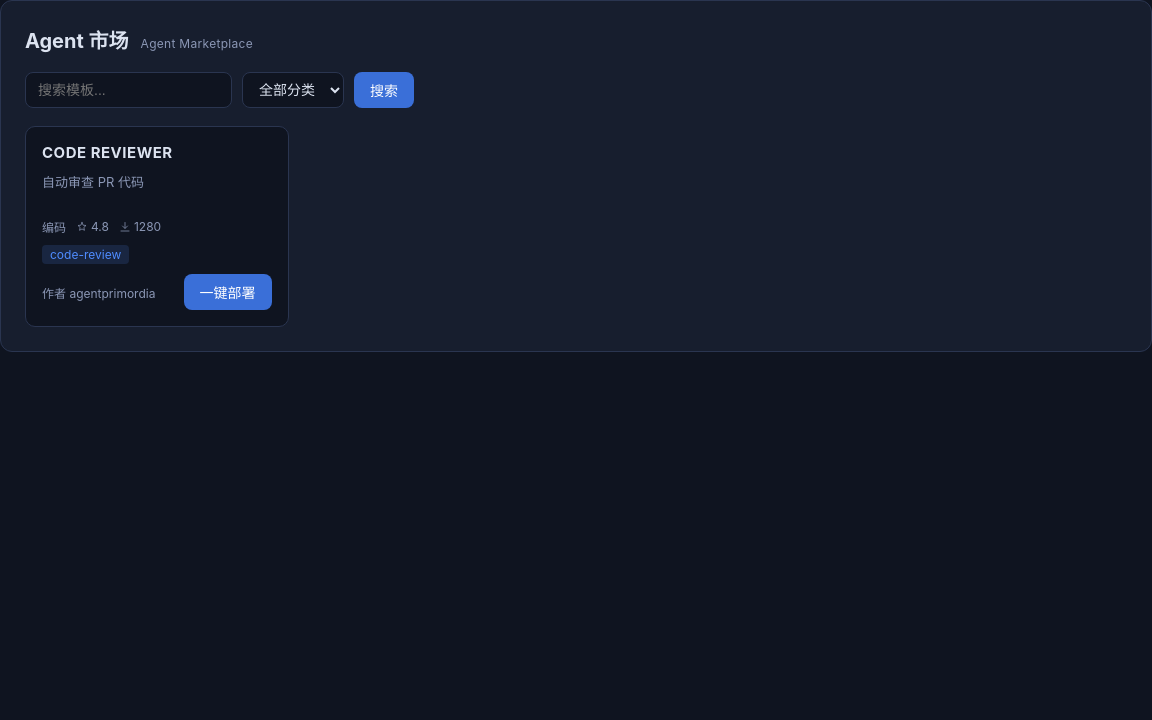
it: Marketplace 加固 › 部署确认框可取消，不发起请求
The width and height of the screenshot is (1152, 720).
Click the button "一键部署". click: x=228, y=292
box: [184,274,272,310]
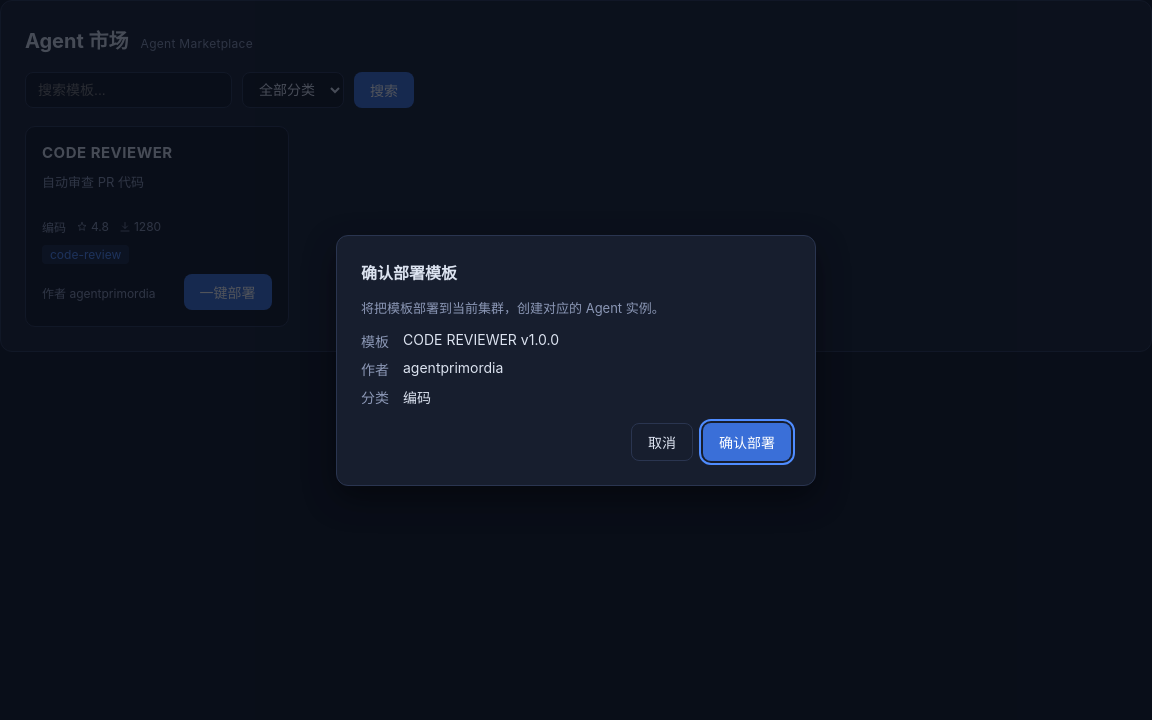
Check: the dialog is shown, box [336,234,816,486]
Click the button "取消". click: x=662, y=442
box: [631,422,693,460]
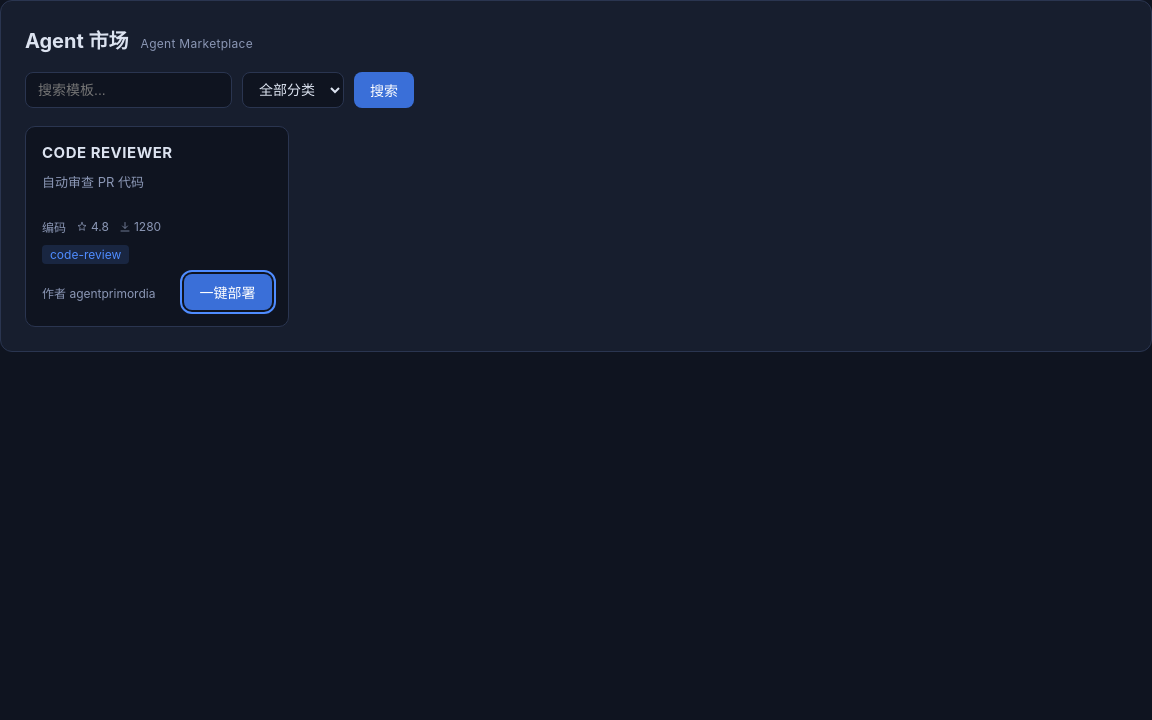
Check: the dialog is gone
